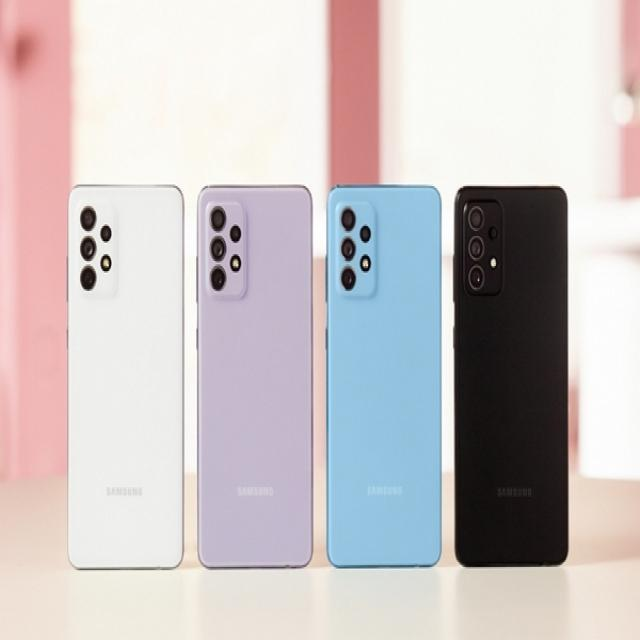phone: (66, 183, 185, 571), (195, 182, 314, 568), (324, 184, 442, 568), (453, 186, 570, 570)
